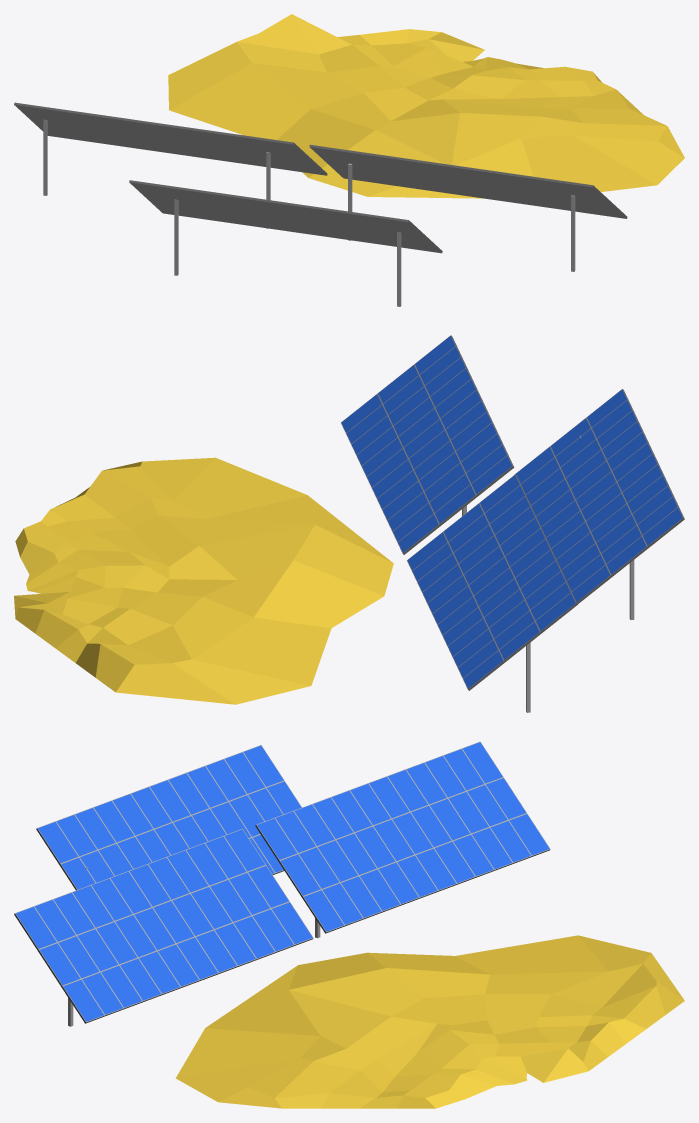
The model's file is street4_01_4.fbx.
The picture shows the model from 3 angles, top to bottom: view 1: azimuth 30°, elevation 25°; view 2: azimuth 150°, elevation 25°; view 3: azimuth 270°, elevation 25°; orthographic projection. The views are drawn at different scales.
Visible parts, largest first — view 1: sandway01x03.001, solar03, solar01, solar02, stocks.004; view 2: sandway01x03.001, solar03, solar01, solar02, stocks.004; view 3: sandway01x03.001, solar03, solar01, solar02.
Boxes of the visible parts, left/top/right/bottom form: sandway01x03.001: left=168, top=14, right=684, bottom=198; solar03: left=309, top=144, right=627, bottom=218; solar01: left=14, top=102, right=327, bottom=175; solar02: left=129, top=180, right=442, bottom=253; stocks.004: left=43, top=119, right=575, bottom=306; sandway01x03.001: left=14, top=457, right=393, bottom=704; solar03: left=341, top=335, right=514, bottom=554; solar01: left=407, top=474, right=577, bottom=690; solar02: left=514, top=389, right=684, bottom=603; stocks.004: left=462, top=436, right=634, bottom=712; sandway01x03.001: left=175, top=935, right=684, bottom=1108; solar03: left=14, top=828, right=313, bottom=1023; solar01: left=255, top=741, right=550, bottom=933; solar02: left=36, top=745, right=301, bottom=890.
Size of the model in its own units: 94 by 17.72 by 97.34.
